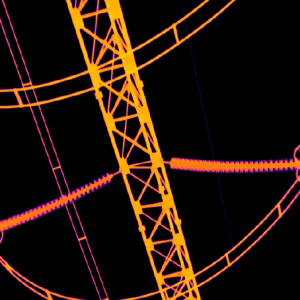insulator: (0, 170, 112, 230), (168, 153, 298, 172)
